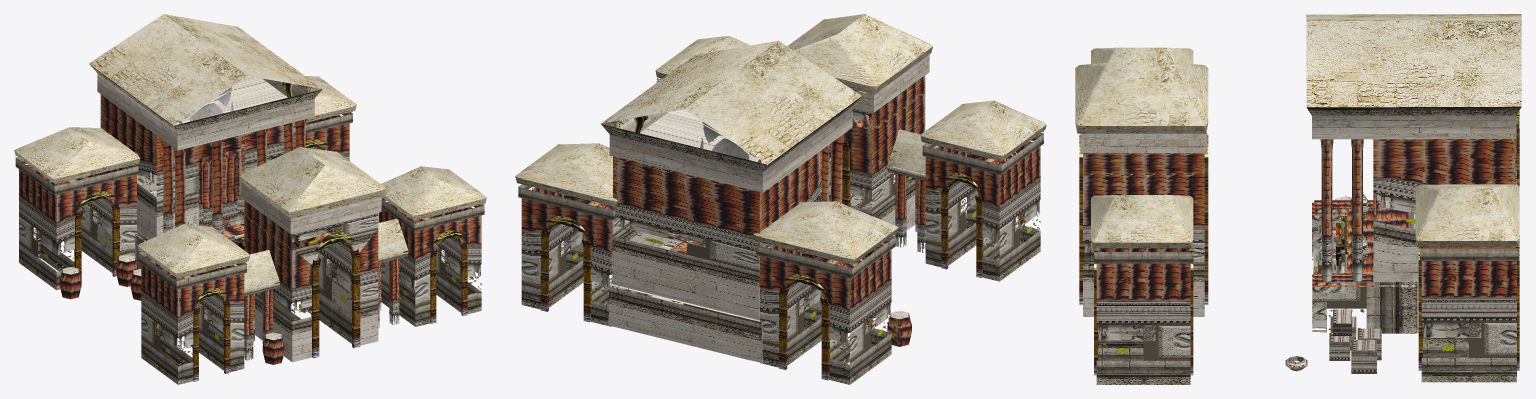
The model's file is rome_civic_center.dae.
The picture shows the model from 3 angles, left to right: view 1: azimuth 30°, elevation 25°; view 2: azimuth 150°, elevation 25°; view 3: azimuth 270°, elevation 25°; orthographic projection. The views are drawn at different scales.
Parts seen in each view (by area): view 1: port_prop0; view 2: port_prop0; view 3: port_prop0.
Part boxes in pixels (left/top/right/bottom): port_prop0: left=14, top=14, right=486, bottom=384; port_prop0: left=515, top=14, right=1046, bottom=384; port_prop0: left=1075, top=14, right=1521, bottom=384.
Bounding box in the file's own units: 24.64 × 23.95 × 16.04.
